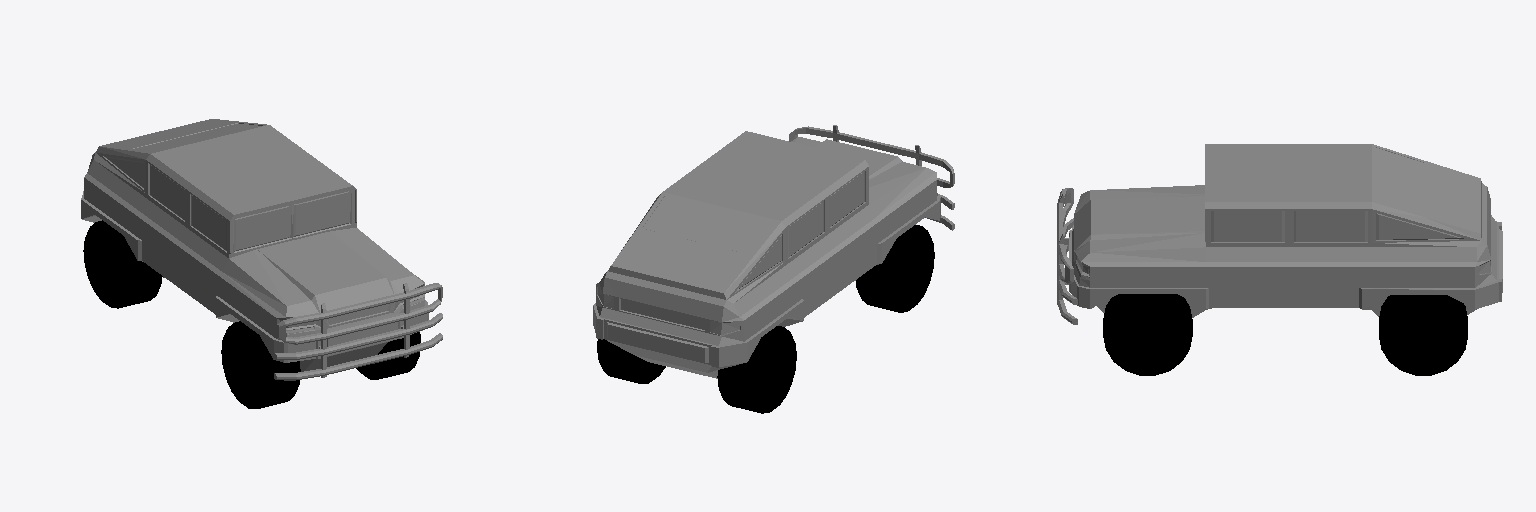
The model's file is Car.obj.
The picture shows the model from 3 angles: view 1: azimuth 30°, elevation 25°; view 2: azimuth 150°, elevation 25°; view 3: azimuth 270°, elevation 25°; orthographic projection.
Parts seen in each view (by area): view 1: Box001, Cylinder002, Cylinder001, Cylinder003; view 2: Box001, Cylinder002, Cylinder001, Cylinder004; view 3: Box001, Cylinder003, Cylinder004.
Boxes of the visible parts, <box> form: Box001: <box>81,119,442,380</box>; Cylinder002: <box>83,220,162,308</box>; Cylinder001: <box>221,321,300,408</box>; Cylinder003: <box>356,332,420,379</box>; Box001: <box>593,125,954,378</box>; Cylinder002: <box>717,326,796,413</box>; Cylinder001: <box>856,225,934,312</box>; Cylinder004: <box>597,339,665,383</box>; Box001: <box>1057,144,1502,324</box>; Cylinder003: <box>1103,294,1192,375</box>; Cylinder004: <box>1379,295,1467,375</box>.
Bounding box in the file's own units: 138 × 132 × 321.